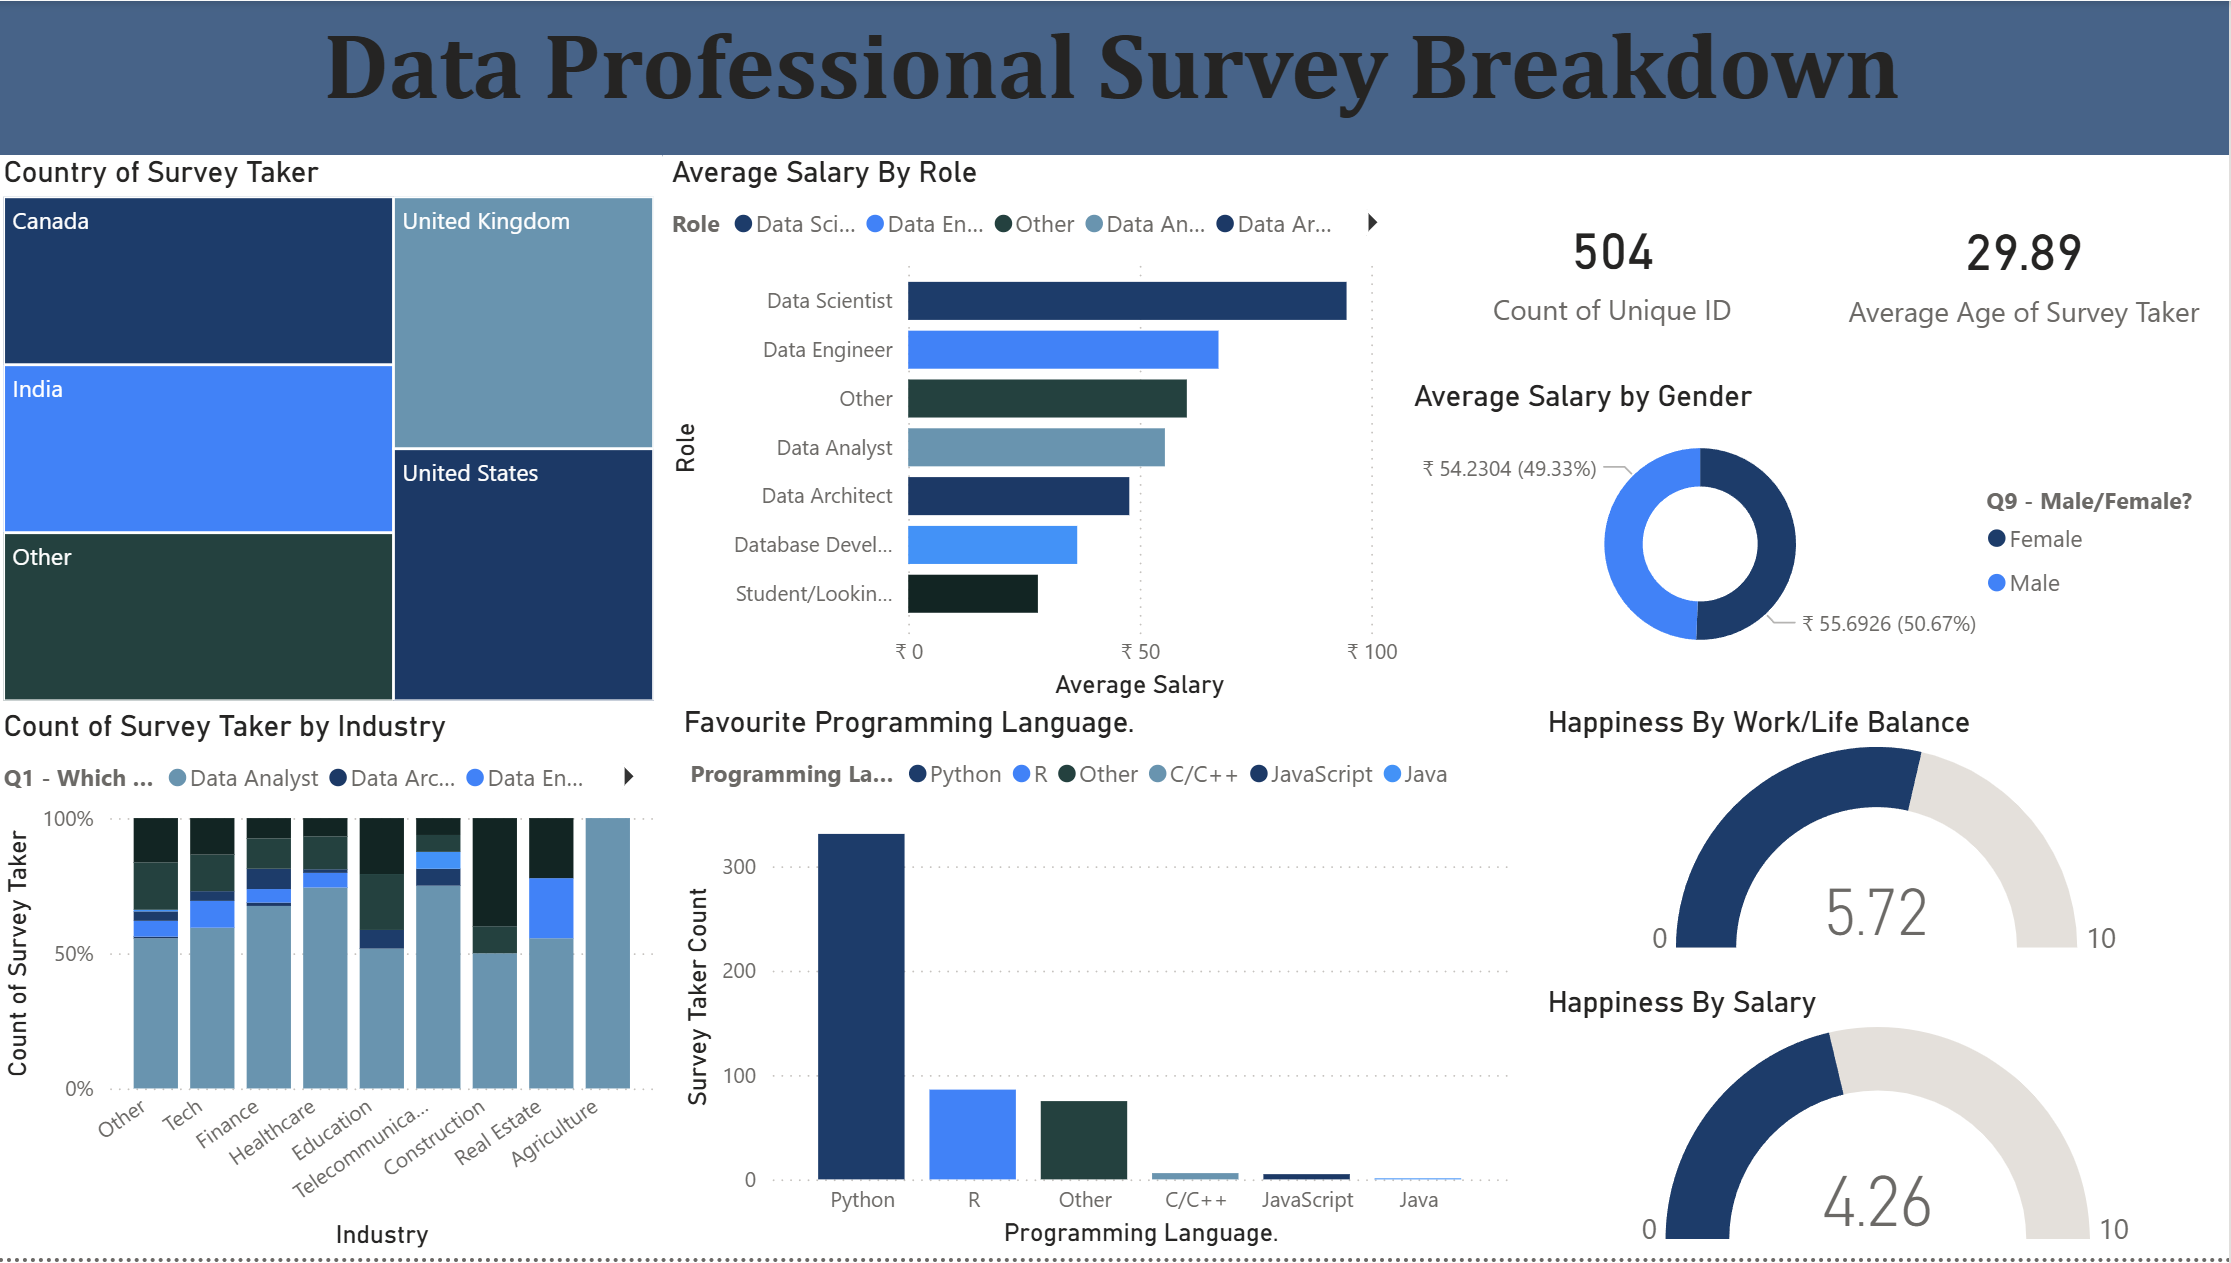

What the dashboard file says about the page in this screenshot:
{"tool":"powerbi","page":{"name":"Page 1","canvas":[1280,720],"ordinal":0},"visuals":[{"type":"textbox","box":[0,0,1280,88.8],"z":0},{"type":"card","fields":{"Values":["Count(Data Professional Survey.Unique ID)"]},"box":[808.1,88.3,237.3,127.9],"z":1000},{"type":"card","fields":{"Values":["Avg(Data Professional Survey.Q10 - Current Age)"]},"box":[1045.1,88.2,234.9,129.5],"z":2000},{"type":"barChart","title":"Average Salary By Role","fields":{"Category":["Data Professional Survey.Q1 - Which Title Best Fits your Current Role?.1"],"Y":["Avg(Data Professional Survey.Average Salary)"],"Series":["Data Professional Survey.Q1 - Which Title Best Fits your Current Role?.1"]},"box":[382.3,88.3,425.8,316.4],"z":3000},{"type":"hundredPercentStackedColumnChart","title":"Count of Survey Taker  by  Industry","fields":{"Y":["Count(Data Professional Survey.Unique ID)"],"Series":["Data Professional Survey.Q1 - Which Title Best Fits your Current Role?.1"],"Category":["Data Professional Survey.Q4 - What Industry do you work in?.1"]},"box":[0,406,382.3,313.7],"z":4000},{"type":"donutChart","title":"Average Salary by  Gender","fields":{"Category":["Data Professional Survey.Q9 - Male/Female?"],"Y":["Avg(Data Professional Survey.Average Salary)"]},"box":[808.1,216.2,473.2,170.1],"z":5000},{"type":"gauge","title":"Happiness By Work/Life Balance","fields":{"Y":["Avg(Data Professional Survey.Q6 - How Happy are you in your Current Position with the following? (Work/Life Balance))"],"MinValue":["Min(Data Professional Survey.Q6 - How Happy are you in your Current Position with the following? (Work/Life Balance))"],"MaxValue":["Max(Data Professional Survey.Q6 - How Happy are you in your Current Position with the following? (Work/Life Balance))"]},"box":[884.5,403.4,395.5,149],"z":6000},{"type":"gauge","title":"Happiness By Salary ","fields":{"Y":["Avg(Data Professional Survey.Q6 - How Happy are you in your Current Position with the following? (Salary))"],"MinValue":["Min(Data Professional Survey.Q6 - How Happy are you in your Current Position with the following? (Salary))1"],"MaxValue":["Max(Data Professional Survey.Q6 - How Happy are you in your Current Position with the following? (Salary))2"]},"box":[884.5,564.2,396.8,155.6],"z":7000},{"type":"treemap","title":" Country of Survey Taker","fields":{"Group":["Data Professional Survey.Q11 - Which Country do you live in?.1"],"Values":["Count(Data Professional Survey.Q11 - Which Country do you live in?.1)"]},"box":[0,88.3,382.3,317.7],"z":8000},{"type":"lineStackedColumnComboChart","title":"Favourite Programming Language.","fields":{"Category":["Data Professional Survey.Q5 - Favorite Programming Language.1"],"Y":["Count(Data Professional Survey.Unique ID)"],"Series":["Data Professional Survey.Q5 - Favorite Programming Language.1"]},"box":[382.3,406,502.2,315.1],"z":9000}]}

Visuals, with their boxes in screenshot pixels (x1, y1, x2, y2), scaled from the page's 1280x720 canvas onto the 2231x1263 screenshot:
textbox: detection(0, 0, 2230, 156)
card - Count(Data Professional Survey.Unique ID): detection(1408, 155, 1822, 379)
card - Avg(Data Professional Survey.Q10 - Current Age): detection(1822, 155, 2230, 382)
"Average Salary By Role" barChart: detection(666, 155, 1408, 710)
"Count of Survey Taker  by  Industry" hundredPercentStackedColumnChart: detection(0, 712, 666, 1262)
"Average Salary by  Gender" donutChart: detection(1408, 379, 2230, 678)
"Happiness By Work/Life Balance" gauge: detection(1542, 708, 2230, 969)
"Happiness By Salary " gauge: detection(1542, 990, 2230, 1262)
" Country of Survey Taker" treemap: detection(0, 155, 666, 712)
"Favourite Programming Language." lineStackedColumnComboChart: detection(666, 712, 1542, 1262)
